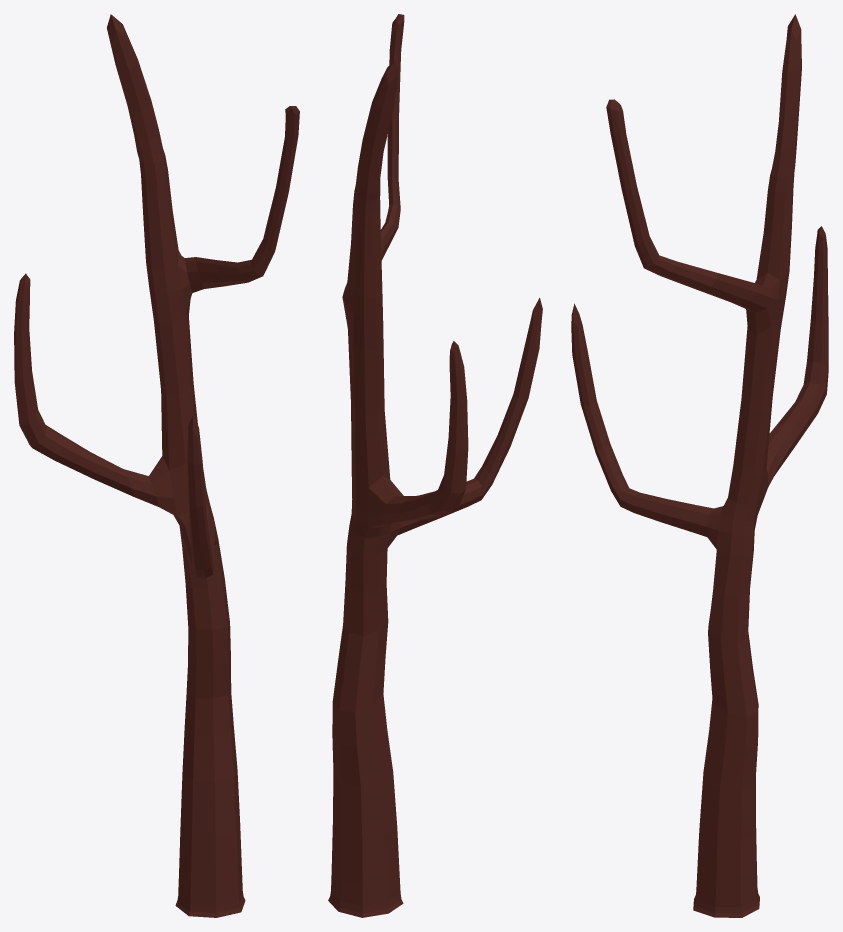
File: prop_CommonTree_Dead_3.glb
3 views of the same model, side by side, from view 1: azimuth 30°, elevation 25°; view 2: azimuth 150°, elevation 25°; view 3: azimuth 270°, elevation 25° (orthographic). The views are drawn at different scales.
Parts seen in each view (by area): view 1: CommonTree_Dead_3; view 2: CommonTree_Dead_3; view 3: CommonTree_Dead_3.
Part boxes in pixels (x1,y1,x2,y2): CommonTree_Dead_3: (14,14,299,917); CommonTree_Dead_3: (328,14,542,917); CommonTree_Dead_3: (571,14,828,917).
Size of the model in its own units: 0.6352 by 3 by 0.8125.
